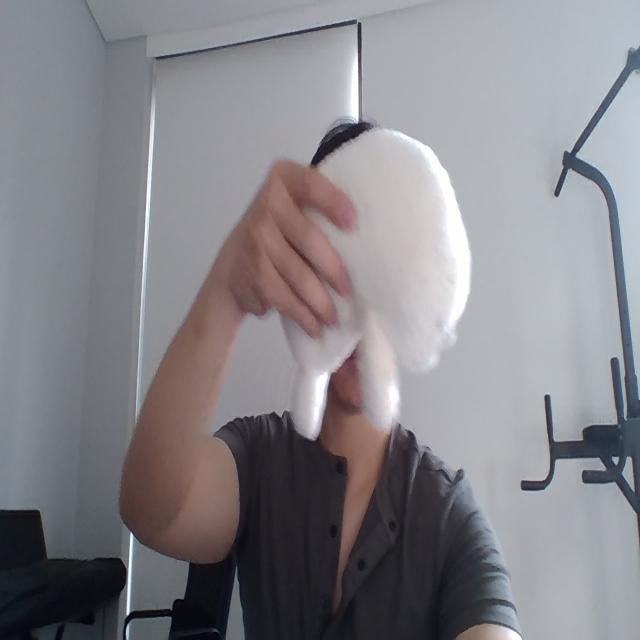seal_bb: (280, 128, 472, 438)
